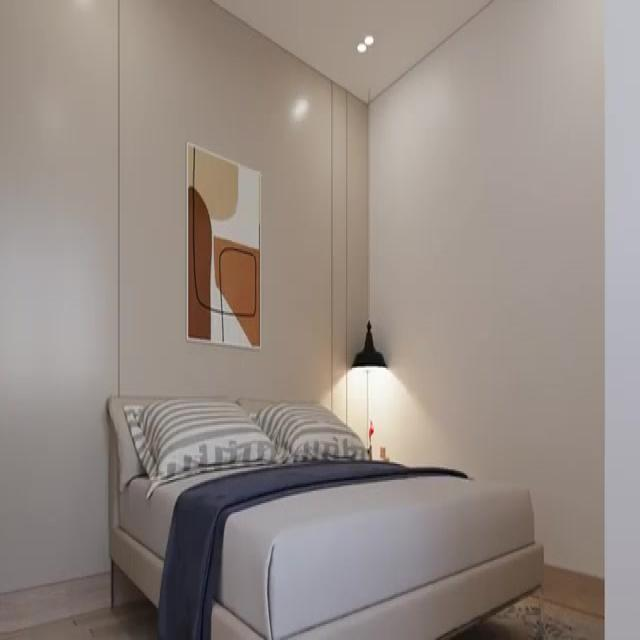obstacle: (106, 393, 544, 638)
